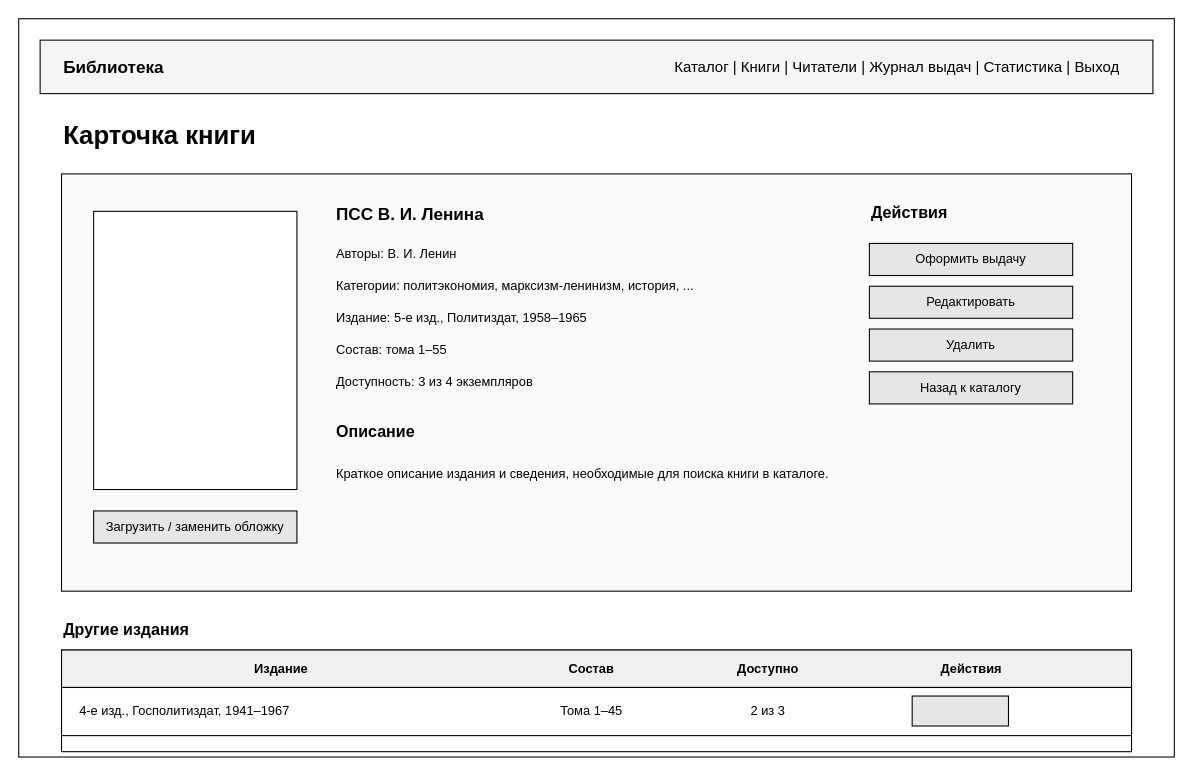
The diagram is 1193 pixels wide and 776 high, and some of its shapes have lost their labels. Each missing label, with the centre of its shape:
"Обложка" belongs at point 195,350.
"Открыть" belongs at point 959,710.
